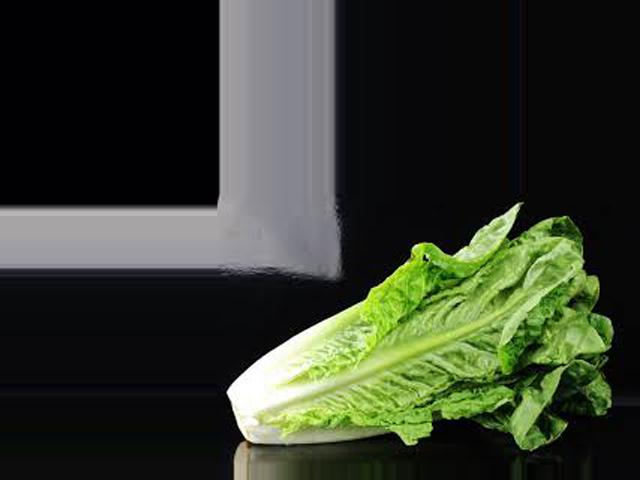lettuce: (222, 205, 619, 451)
